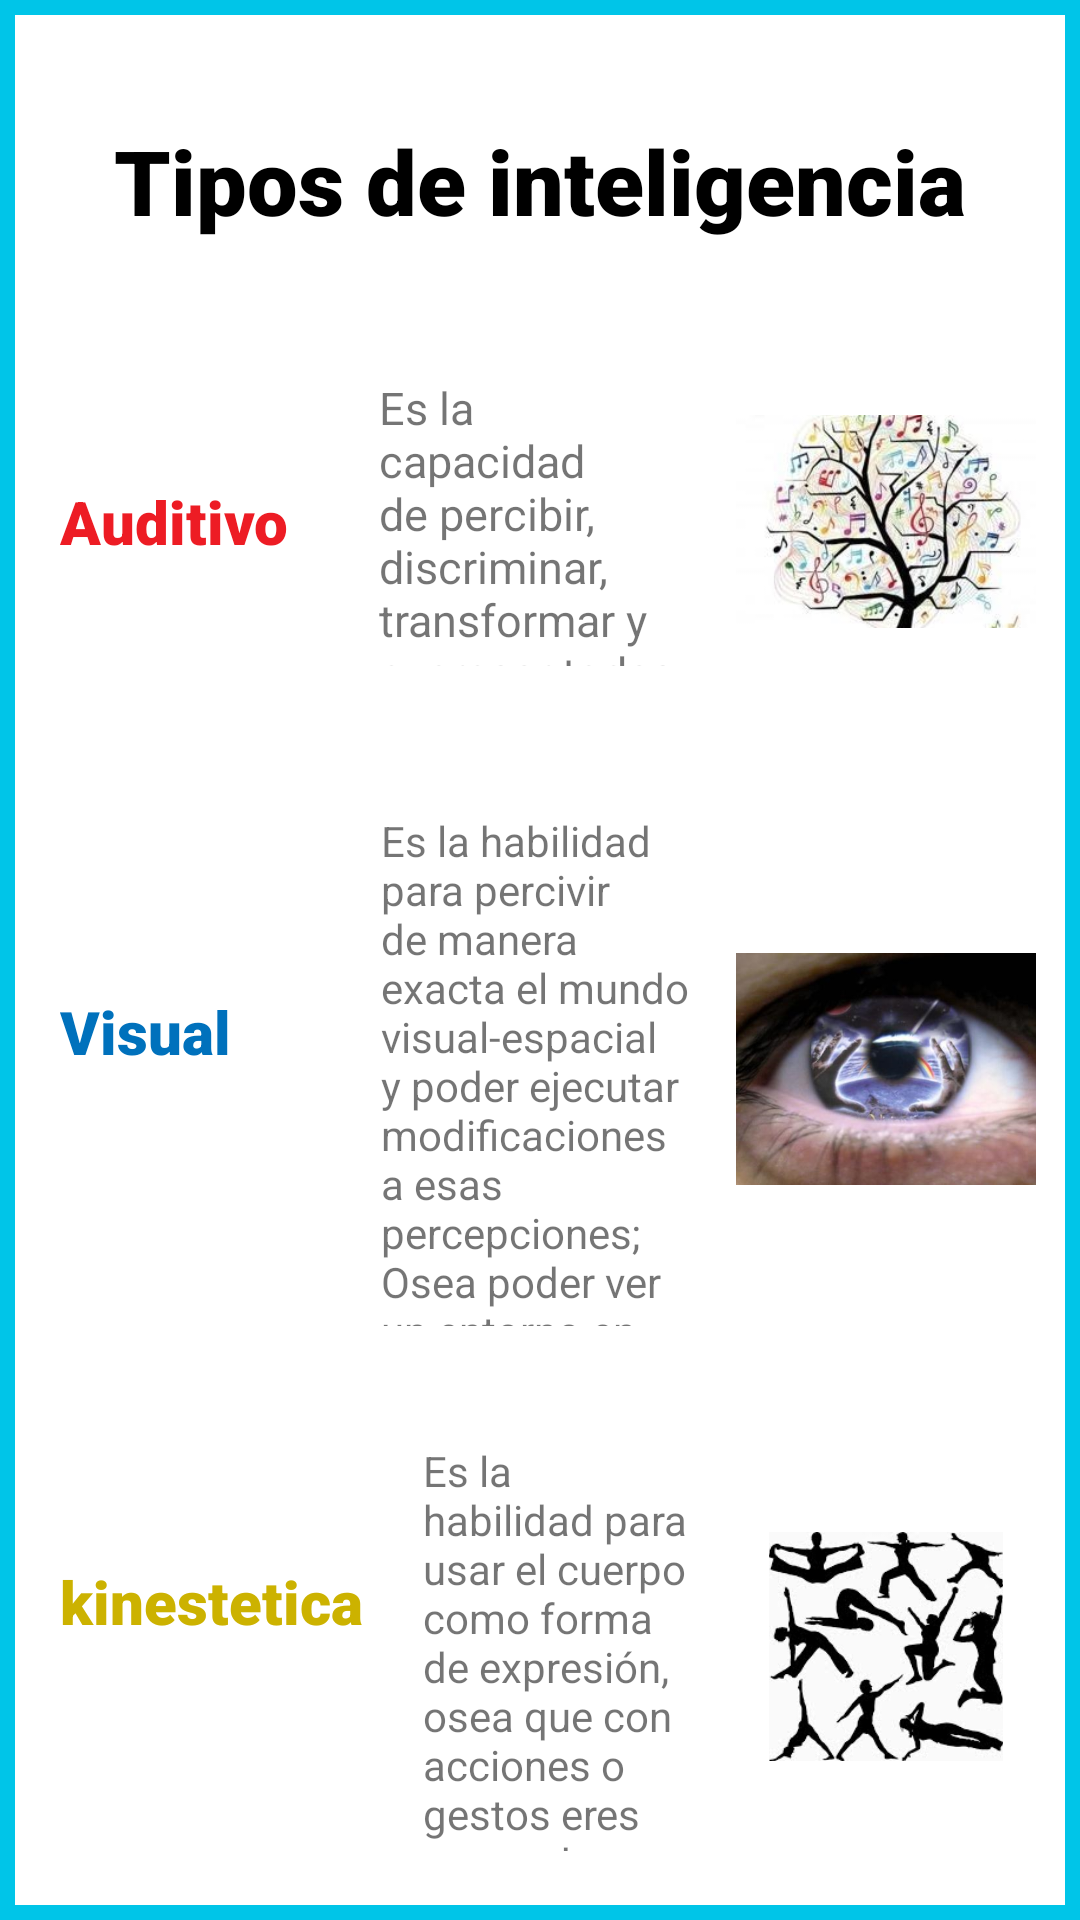

Icon click points for this 1080 x 1920 phone screenshot, format (x=x, y=y):
Imagen que muestra graficamente INT tipo vista: (x=886, y=1069)
imagen que muestra INT tipo audio: (x=893, y=521)
imagen que muestra INT tipo kinestetico: (x=886, y=1646)
